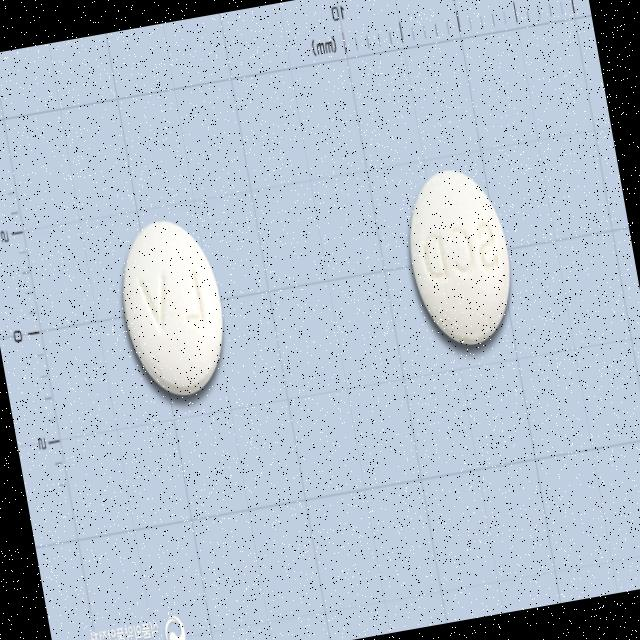Levostar -500mg: (394, 159, 523, 353), (109, 210, 235, 404)
